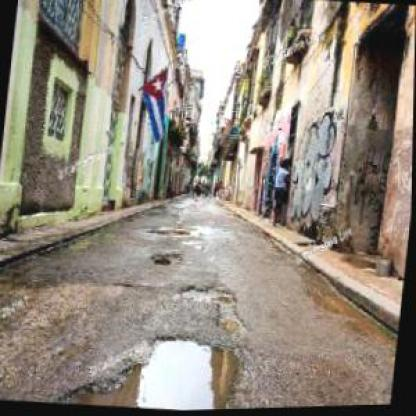pothole: (51, 320, 247, 414), (214, 282, 251, 334), (179, 277, 238, 306), (146, 223, 190, 239), (150, 248, 184, 268)
